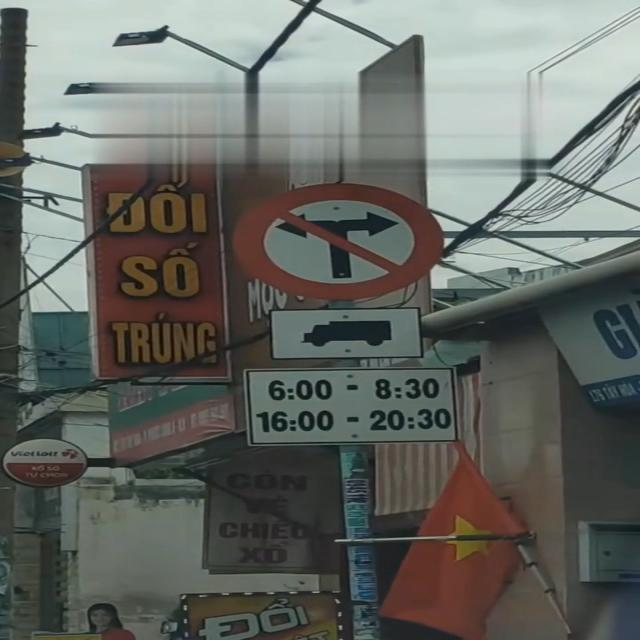137-cam-re-trai-va-re-phai: (232, 178, 444, 298)
